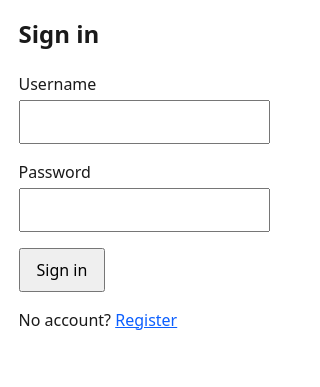
Test: LoginPage › renders 'invalid username or password' on a 401 and keeps the user on /login with the username filled in
This screenshot has width=320, height=387.
Type "bob" into the field labelled "Username" at (144, 122), box [18,100,270,144]
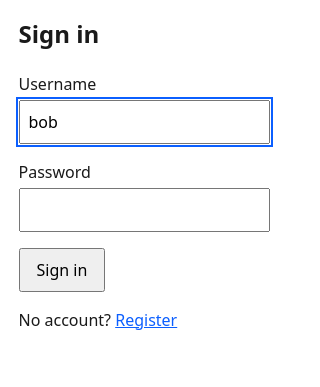
Type "wrong-pass" into the password field labelled "Password" at (144, 210), box [18,188,270,232]
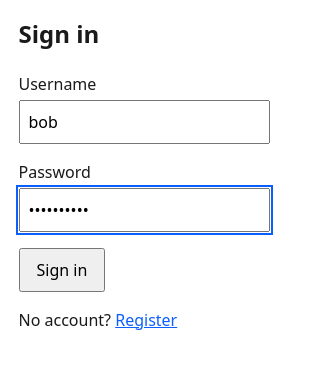
Click the button "Sign in" at (62, 270), box [18,248,105,292]
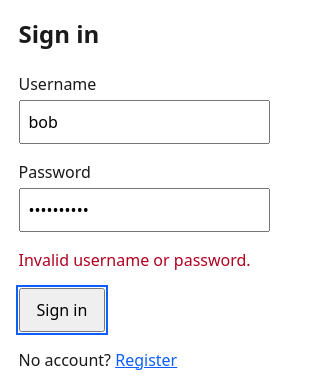
Expected: the heading "Sign in" is shown, [18,17,99,50]
Now the text "Invalid username or password." is shown, box [18,248,270,272]
